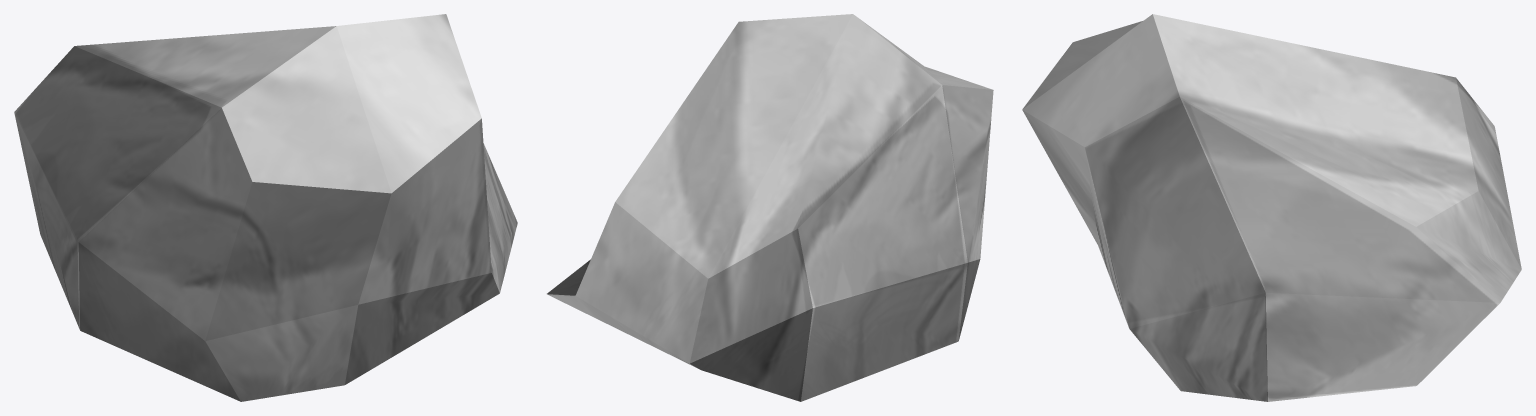
Rendered from rock1.FBX.
3 views of the same model, side by side, from view 1: azimuth 30°, elevation 25°; view 2: azimuth 150°, elevation 25°; view 3: azimuth 270°, elevation 25° (orthographic). The views are drawn at different scales.
Visible parts, largest first — view 1: Box001; view 2: Box001; view 3: Box001.
Boxes of the visible parts, x1,y1,x2,y2 form: Box001: (14,14,517,401); Box001: (547,14,993,401); Box001: (1022,14,1521,401).
Size of the model in its own units: 75.16 by 58.47 by 79.75.
Materials: 1 (1 with a texture image).
